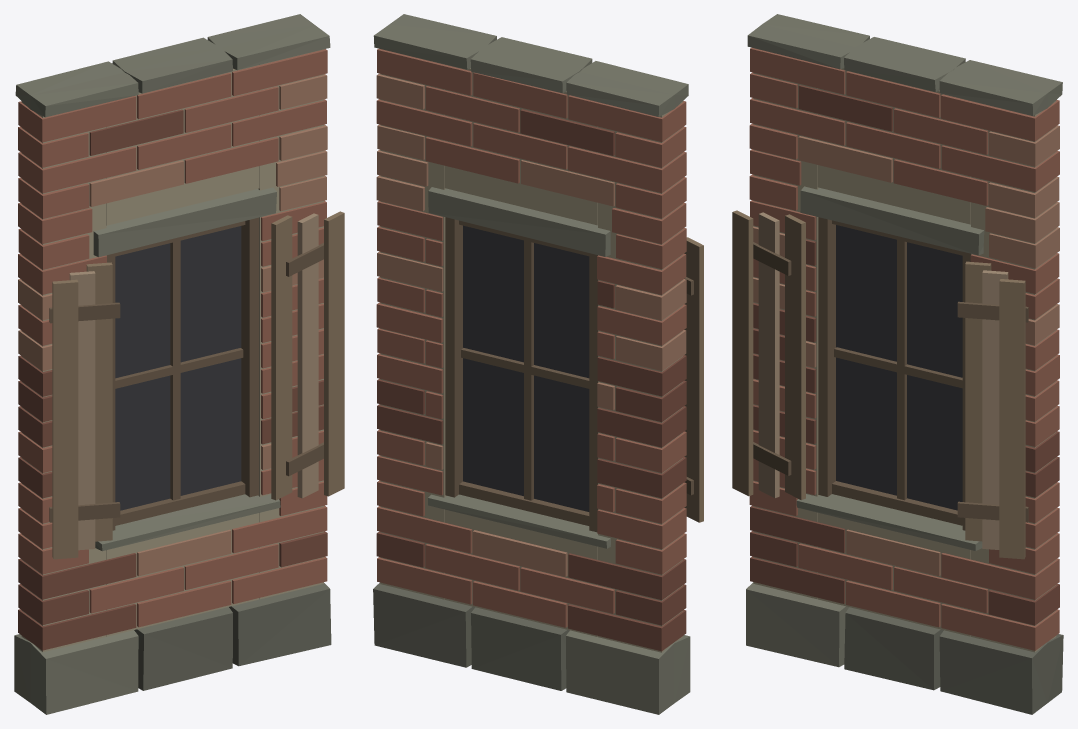
File: wall_brick_window.glb
3 views of the same model, side by side, from view 1: azimuth 30°, elevation 25°; view 2: azimuth 150°, elevation 25°; view 3: azimuth 330°, elevation 25° (orthographic).
Parts seen in each view (by area): view 1: Wall_Brick_Window; view 2: Wall_Brick_Window; view 3: Wall_Brick_Window.
Part boxes in pixels (bbox=[...]): Wall_Brick_Window: bbox=[14, 14, 344, 714]; Wall_Brick_Window: bbox=[373, 14, 703, 714]; Wall_Brick_Window: bbox=[732, 14, 1063, 714].
Bounding box in the file's own units: 1.52 × 3.05 × 0.4324.
